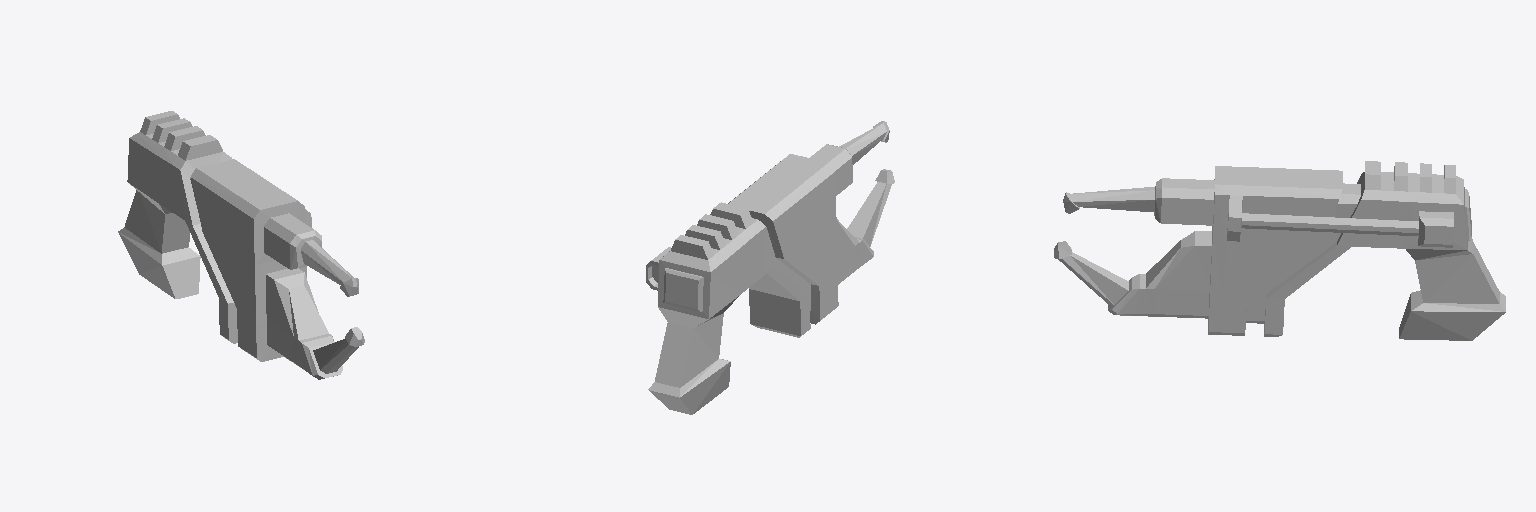
File: omni_tool.obj
The picture shows the model from 3 angles: view 1: azimuth 30°, elevation 25°; view 2: azimuth 150°, elevation 25°; view 3: azimuth 270°, elevation 25°; orthographic projection.
Visible parts, largest first — view 1: wielder; view 2: wielder; view 3: wielder.
Boxes of the visible parts, x1,y1,x2,y2 form: wielder: [118, 111, 364, 379]; wielder: [646, 121, 894, 414]; wielder: [1054, 161, 1505, 340].
Bounding box in the file's own units: 0.0919 × 0.2108 × 0.5156.